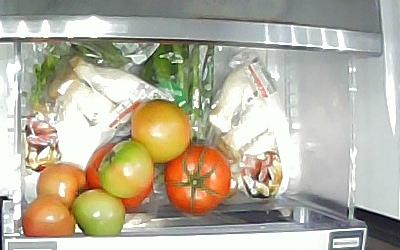tomato: (163, 143, 231, 215), (84, 142, 154, 208), (128, 97, 191, 163), (94, 137, 154, 198), (69, 186, 125, 235), (35, 162, 86, 214), (21, 195, 74, 238)
